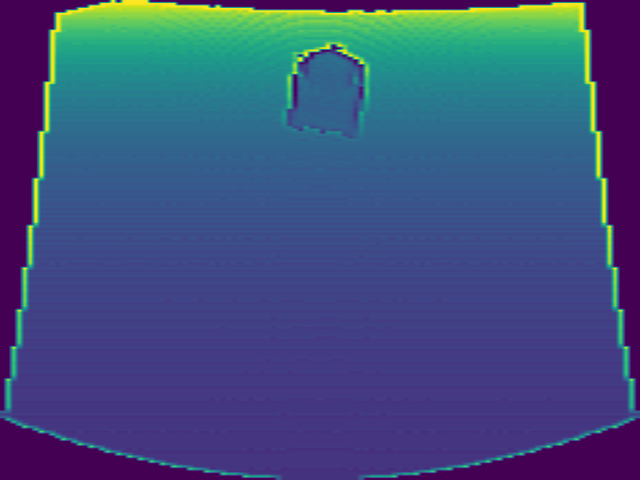car_0027: (283, 42, 369, 137)
